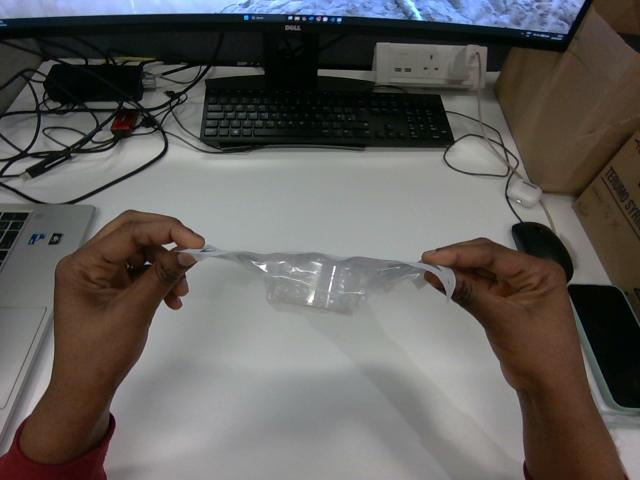gallipot: (185, 245, 455, 313)
